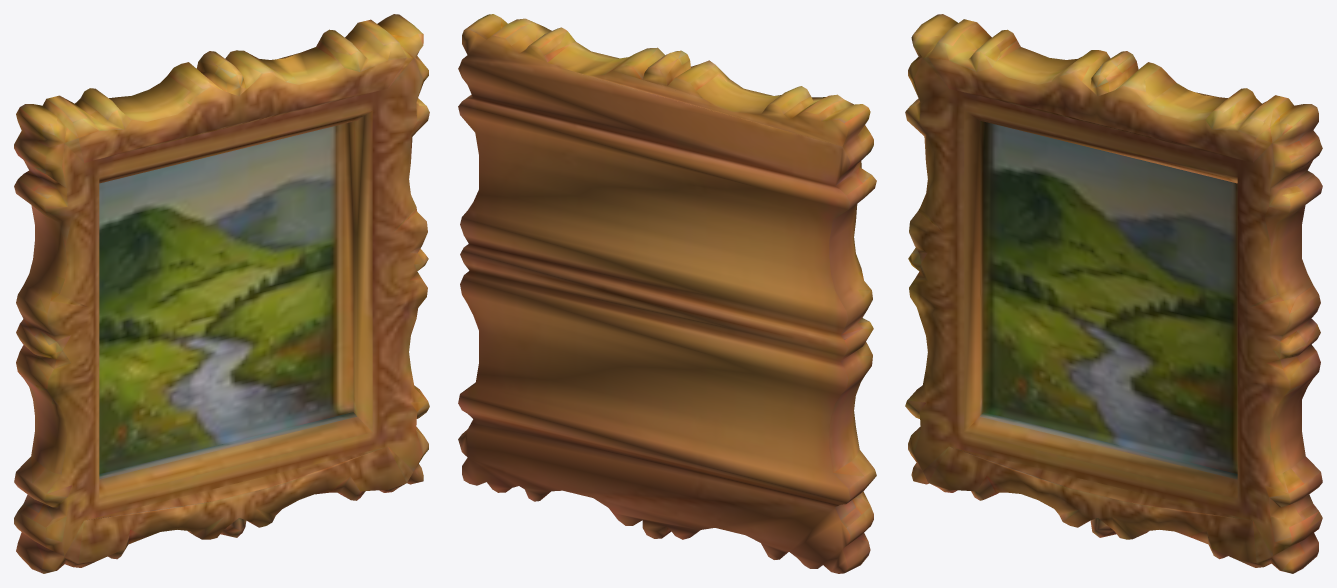
File: wyn_furn_landscape_painting.glb
3 views of the same model, side by side, from view 1: azimuth 30°, elevation 25°; view 2: azimuth 150°, elevation 25°; view 3: azimuth 330°, elevation 25° (orthographic).
Visible parts, largest first — view 1: tripo_node_39b57c71-4b8f-48f7-8a4f-96d5df27bad3; view 2: tripo_node_39b57c71-4b8f-48f7-8a4f-96d5df27bad3; view 3: tripo_node_39b57c71-4b8f-48f7-8a4f-96d5df27bad3.
Part boxes in pixels (box(x1,y1,x2,y2)): tripo_node_39b57c71-4b8f-48f7-8a4f-96d5df27bad3: box(14, 14, 429, 573); tripo_node_39b57c71-4b8f-48f7-8a4f-96d5df27bad3: box(458, 14, 876, 573); tripo_node_39b57c71-4b8f-48f7-8a4f-96d5df27bad3: box(905, 14, 1322, 573).
Size of the model in its own units: 0.6925 by 0.8 by 0.1042.
Materials: 1 (1 with a texture image).
